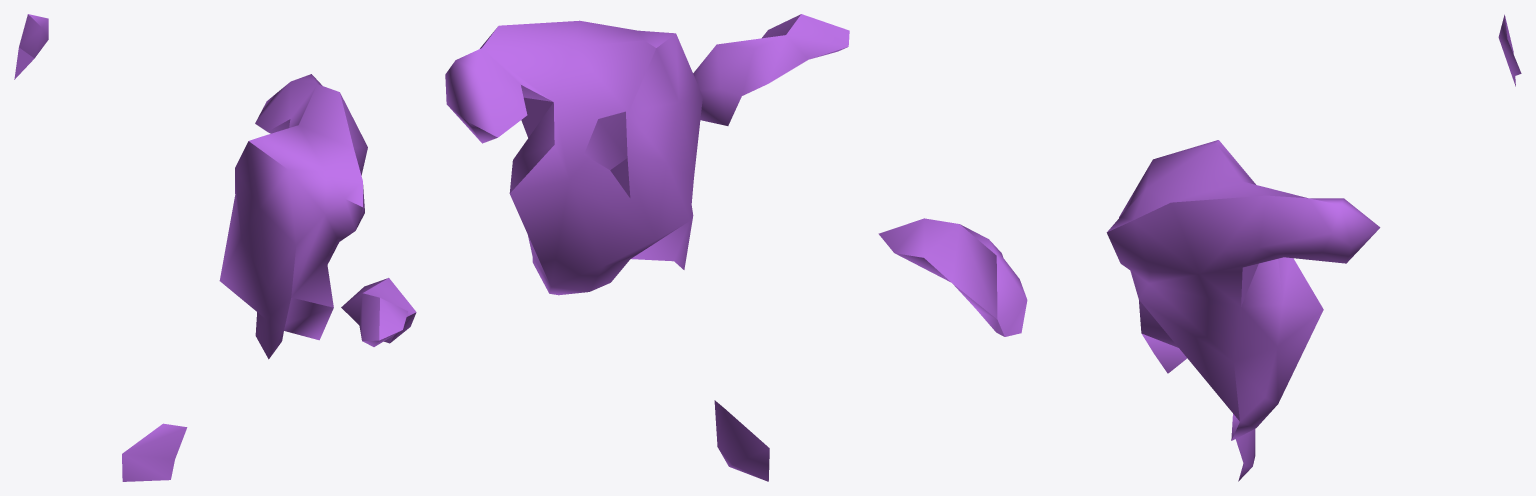
Rendered from spl-389.glb.
3 renders of one model, left to right at view 1: azimuth 30°, elevation 25°; view 2: azimuth 150°, elevation 25°; view 3: azimuth 270°, elevation 25°, orthographic. The views are drawn at different scales.
Parts seen in each view (by area): view 1: spl-389; view 2: spl-389; view 3: spl-389.
Boxes of the visible parts, x1,y1,x2,y2 form: spl-389: (14, 14, 416, 481); spl-389: (445, 14, 849, 481); spl-389: (878, 14, 1521, 481).
Bounding box in the file's own units: 4.4 × 6.84 × 8.82.
